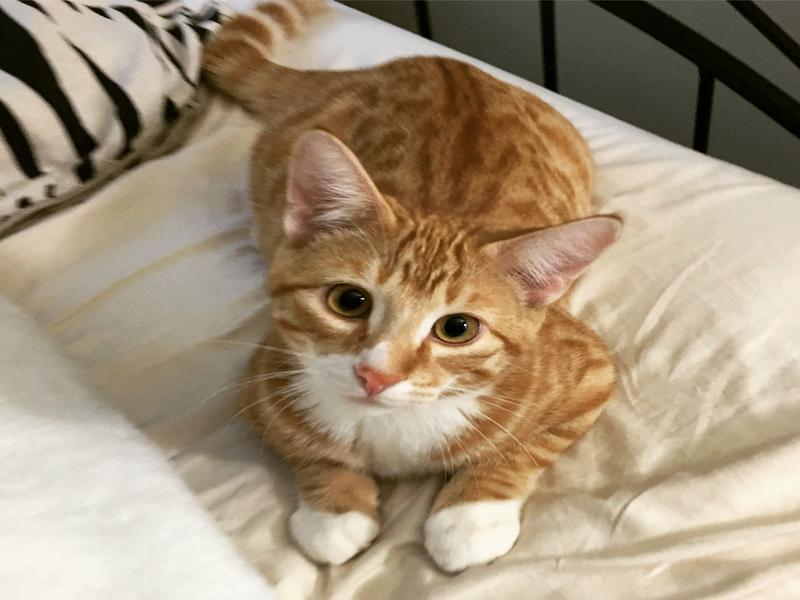cat: (194, 4, 631, 575)
